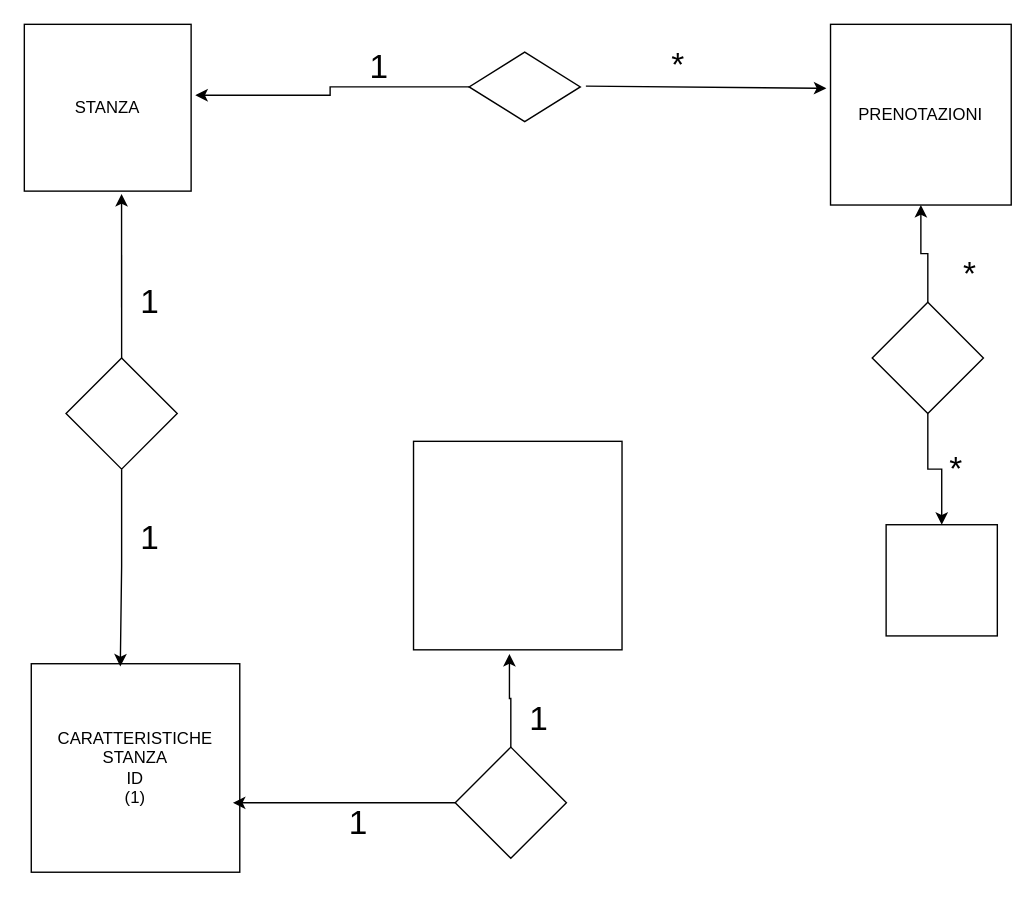
This 1036x897 diagram has some shape labels left out. Each missing label, with the box of its shape:
OSPITI: (885, 523, 997, 636)
RECENSIONI FK(1): (412, 440, 622, 650)
